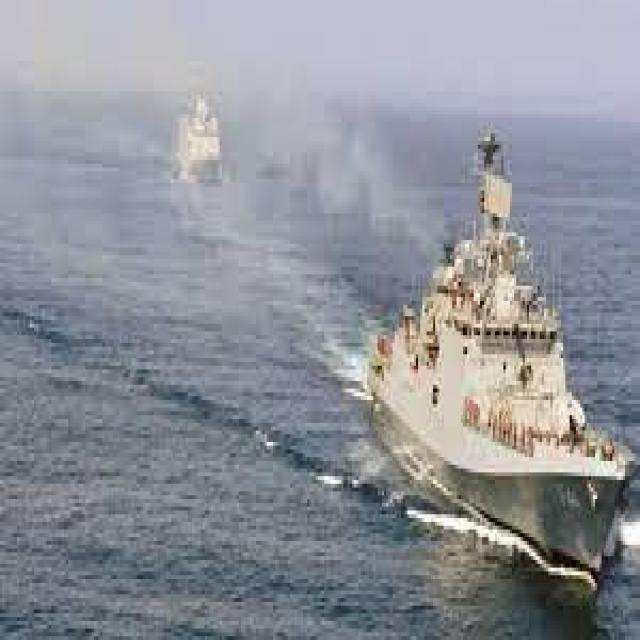navalvessels: (346, 127, 631, 573), (172, 78, 231, 177)
